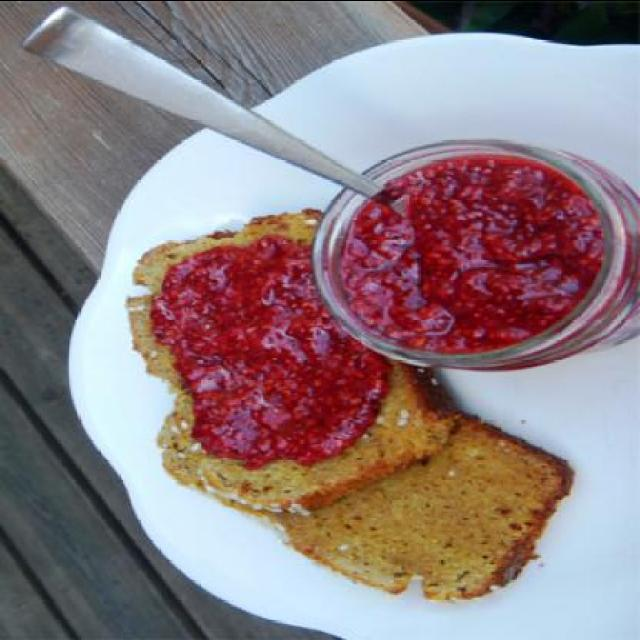Spread: (152, 232, 394, 470)
